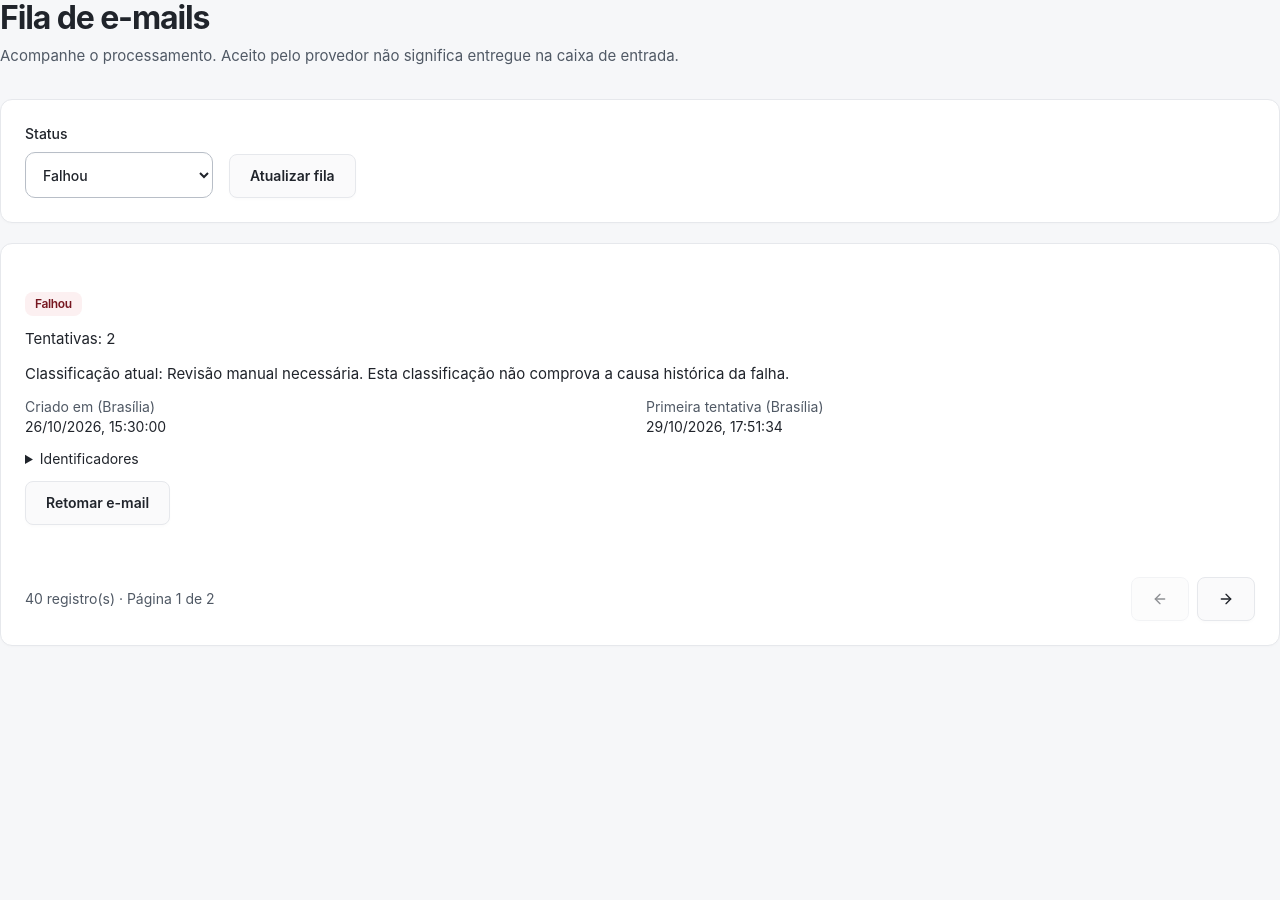
it: trata falha 409 sem erro bruto e sem repetição automática
Click the button "Retomar e-mail": (98, 503) [25,481,170,525]
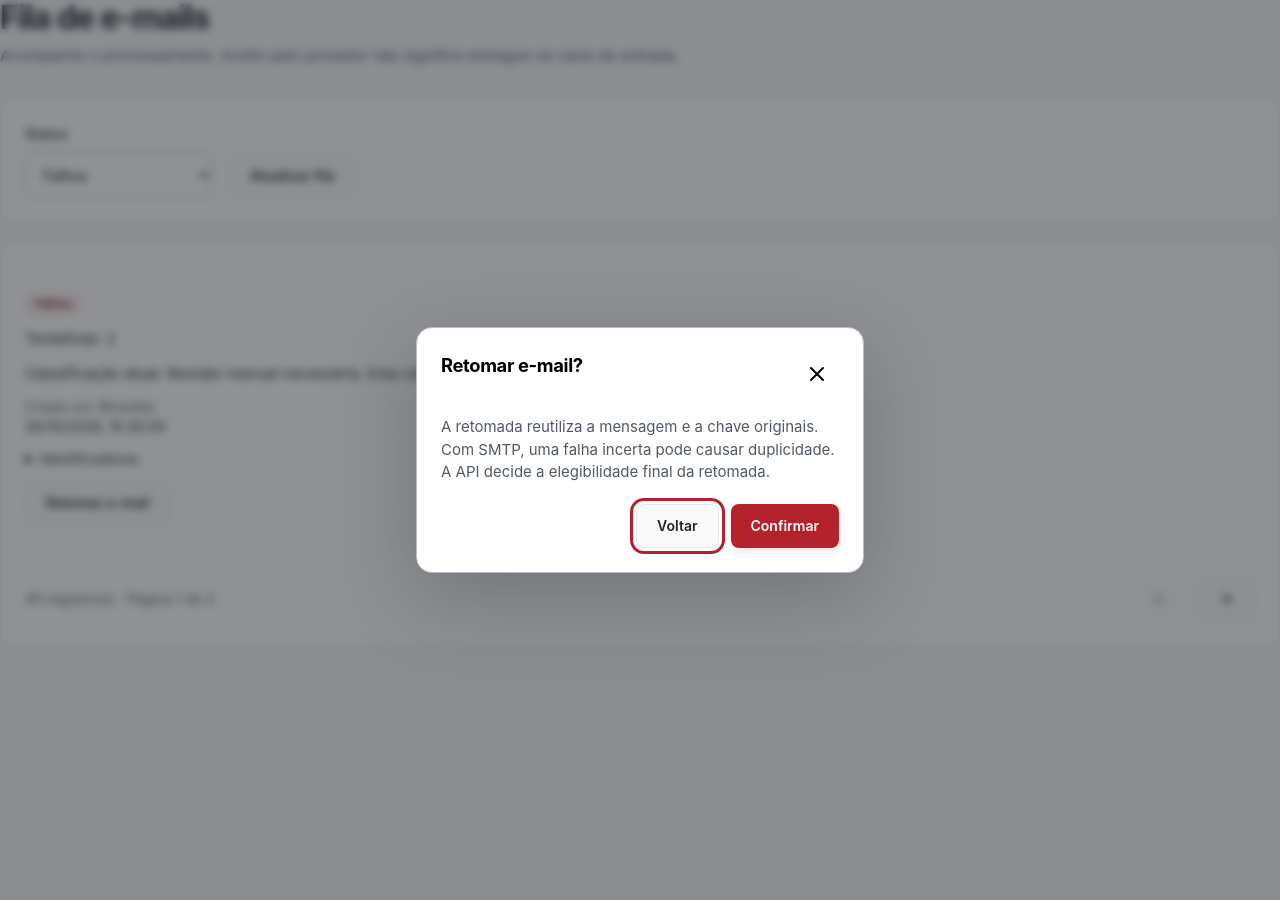
Click the button "Confirmar": (785, 526) [730,504,839,548]
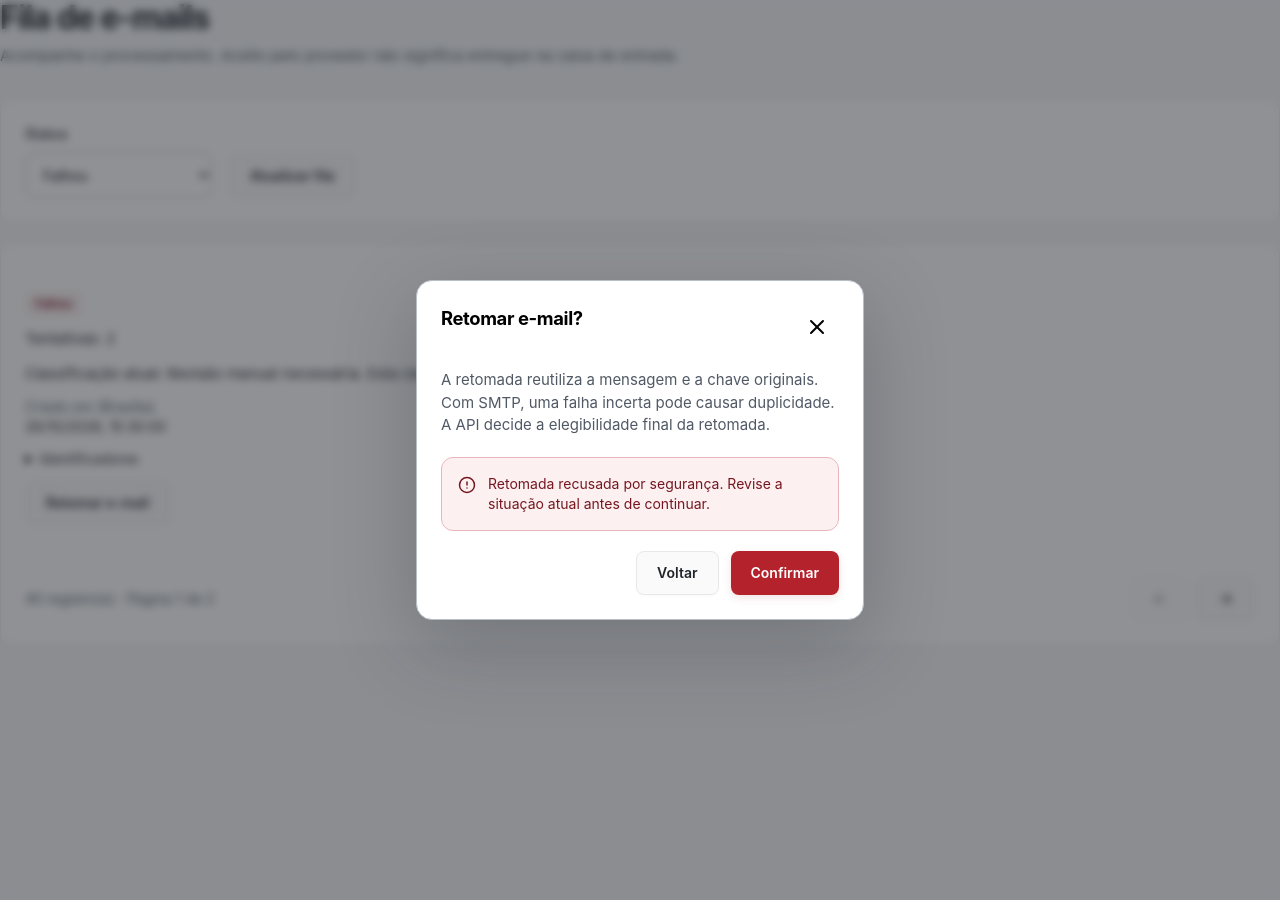
Result: the message shows "recusada por segurança" at [488,475,783,512]
